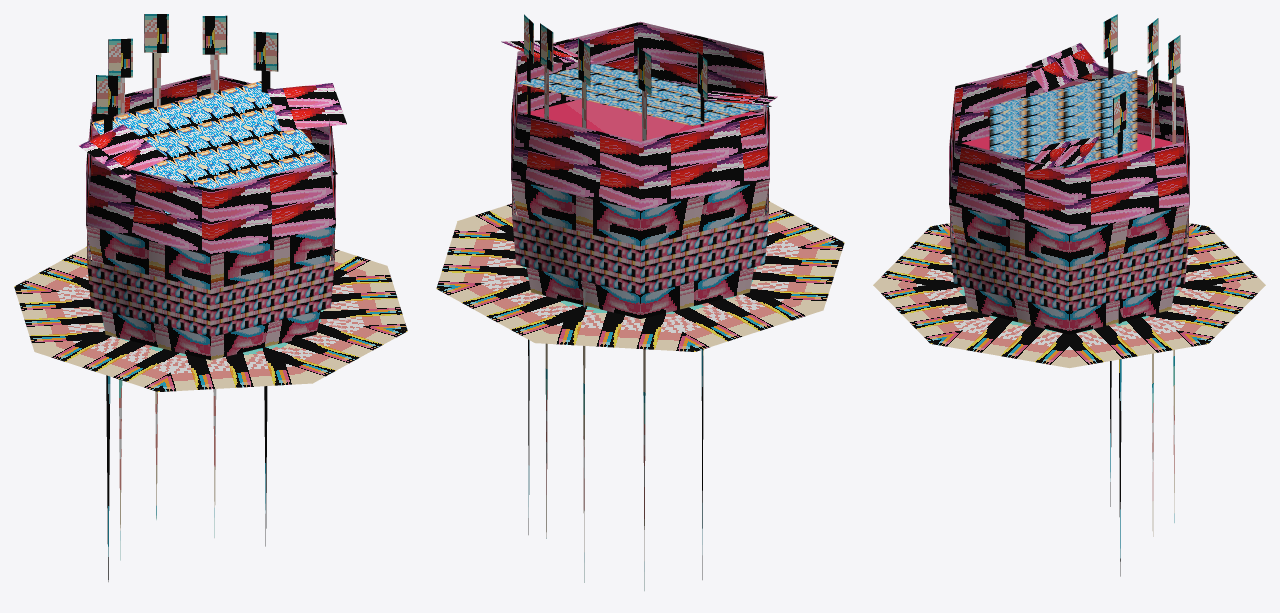
File: 3519dl_cake.gltf
The picture shows the model from 3 angles, left to right: view 1: azimuth 30°, elevation 25°; view 2: azimuth 150°, elevation 25°; view 3: azimuth 270°, elevation 25°; orthographic projection. The views are drawn at different scales.
Visible parts, largest first — view 1: 3519dl_cake; view 2: 3519dl_cake; view 3: 3519dl_cake.
Boxes of the visible parts, left/top/right/bottom form: 3519dl_cake: left=14, top=14, right=407, bottom=581; 3519dl_cake: left=436, top=14, right=844, bottom=590; 3519dl_cake: left=873, top=14, right=1265, bottom=576.
Bounding box in the file's own units: 0.8442 × 1.24 × 0.8442.
Materials: 4 (4 with a texture image).
